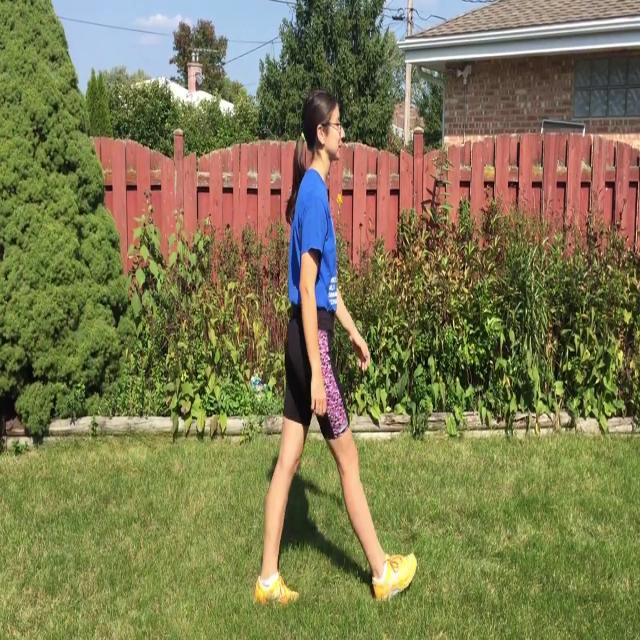normal: (250, 82, 418, 612)
